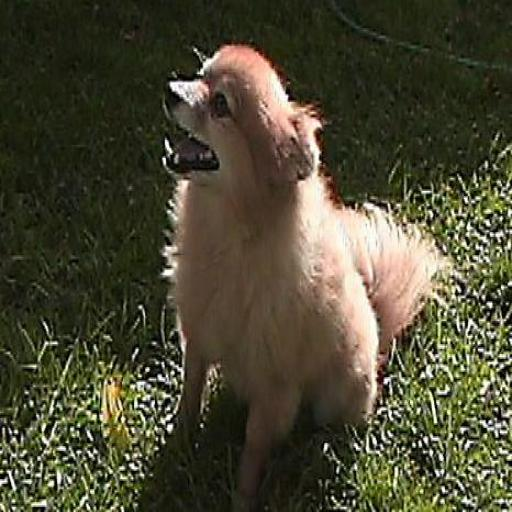dog_face: (165, 41, 314, 191)
